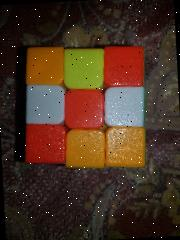plastic: (19, 40, 150, 173), (23, 122, 67, 166), (62, 46, 106, 90), (102, 124, 146, 168), (104, 84, 148, 128), (102, 43, 146, 86), (23, 82, 66, 126), (63, 127, 106, 170), (63, 87, 106, 130)
